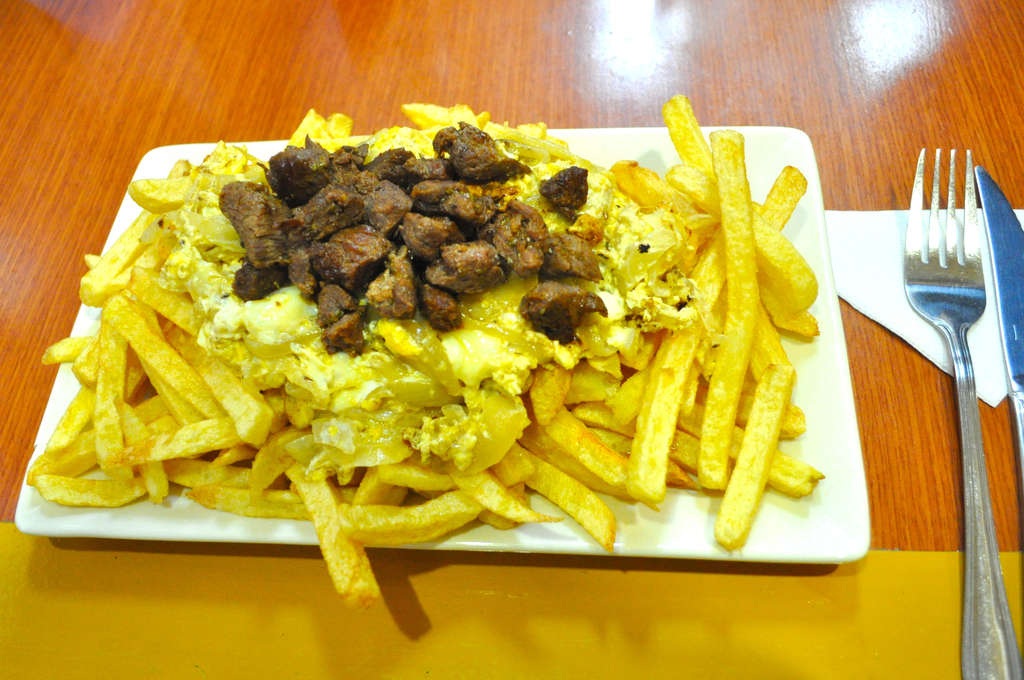French fries: (67, 145, 808, 575)
